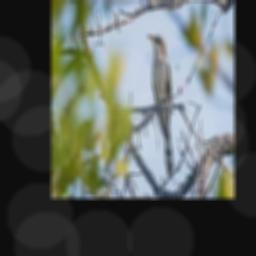Cuckoo: (147, 33, 173, 176)
